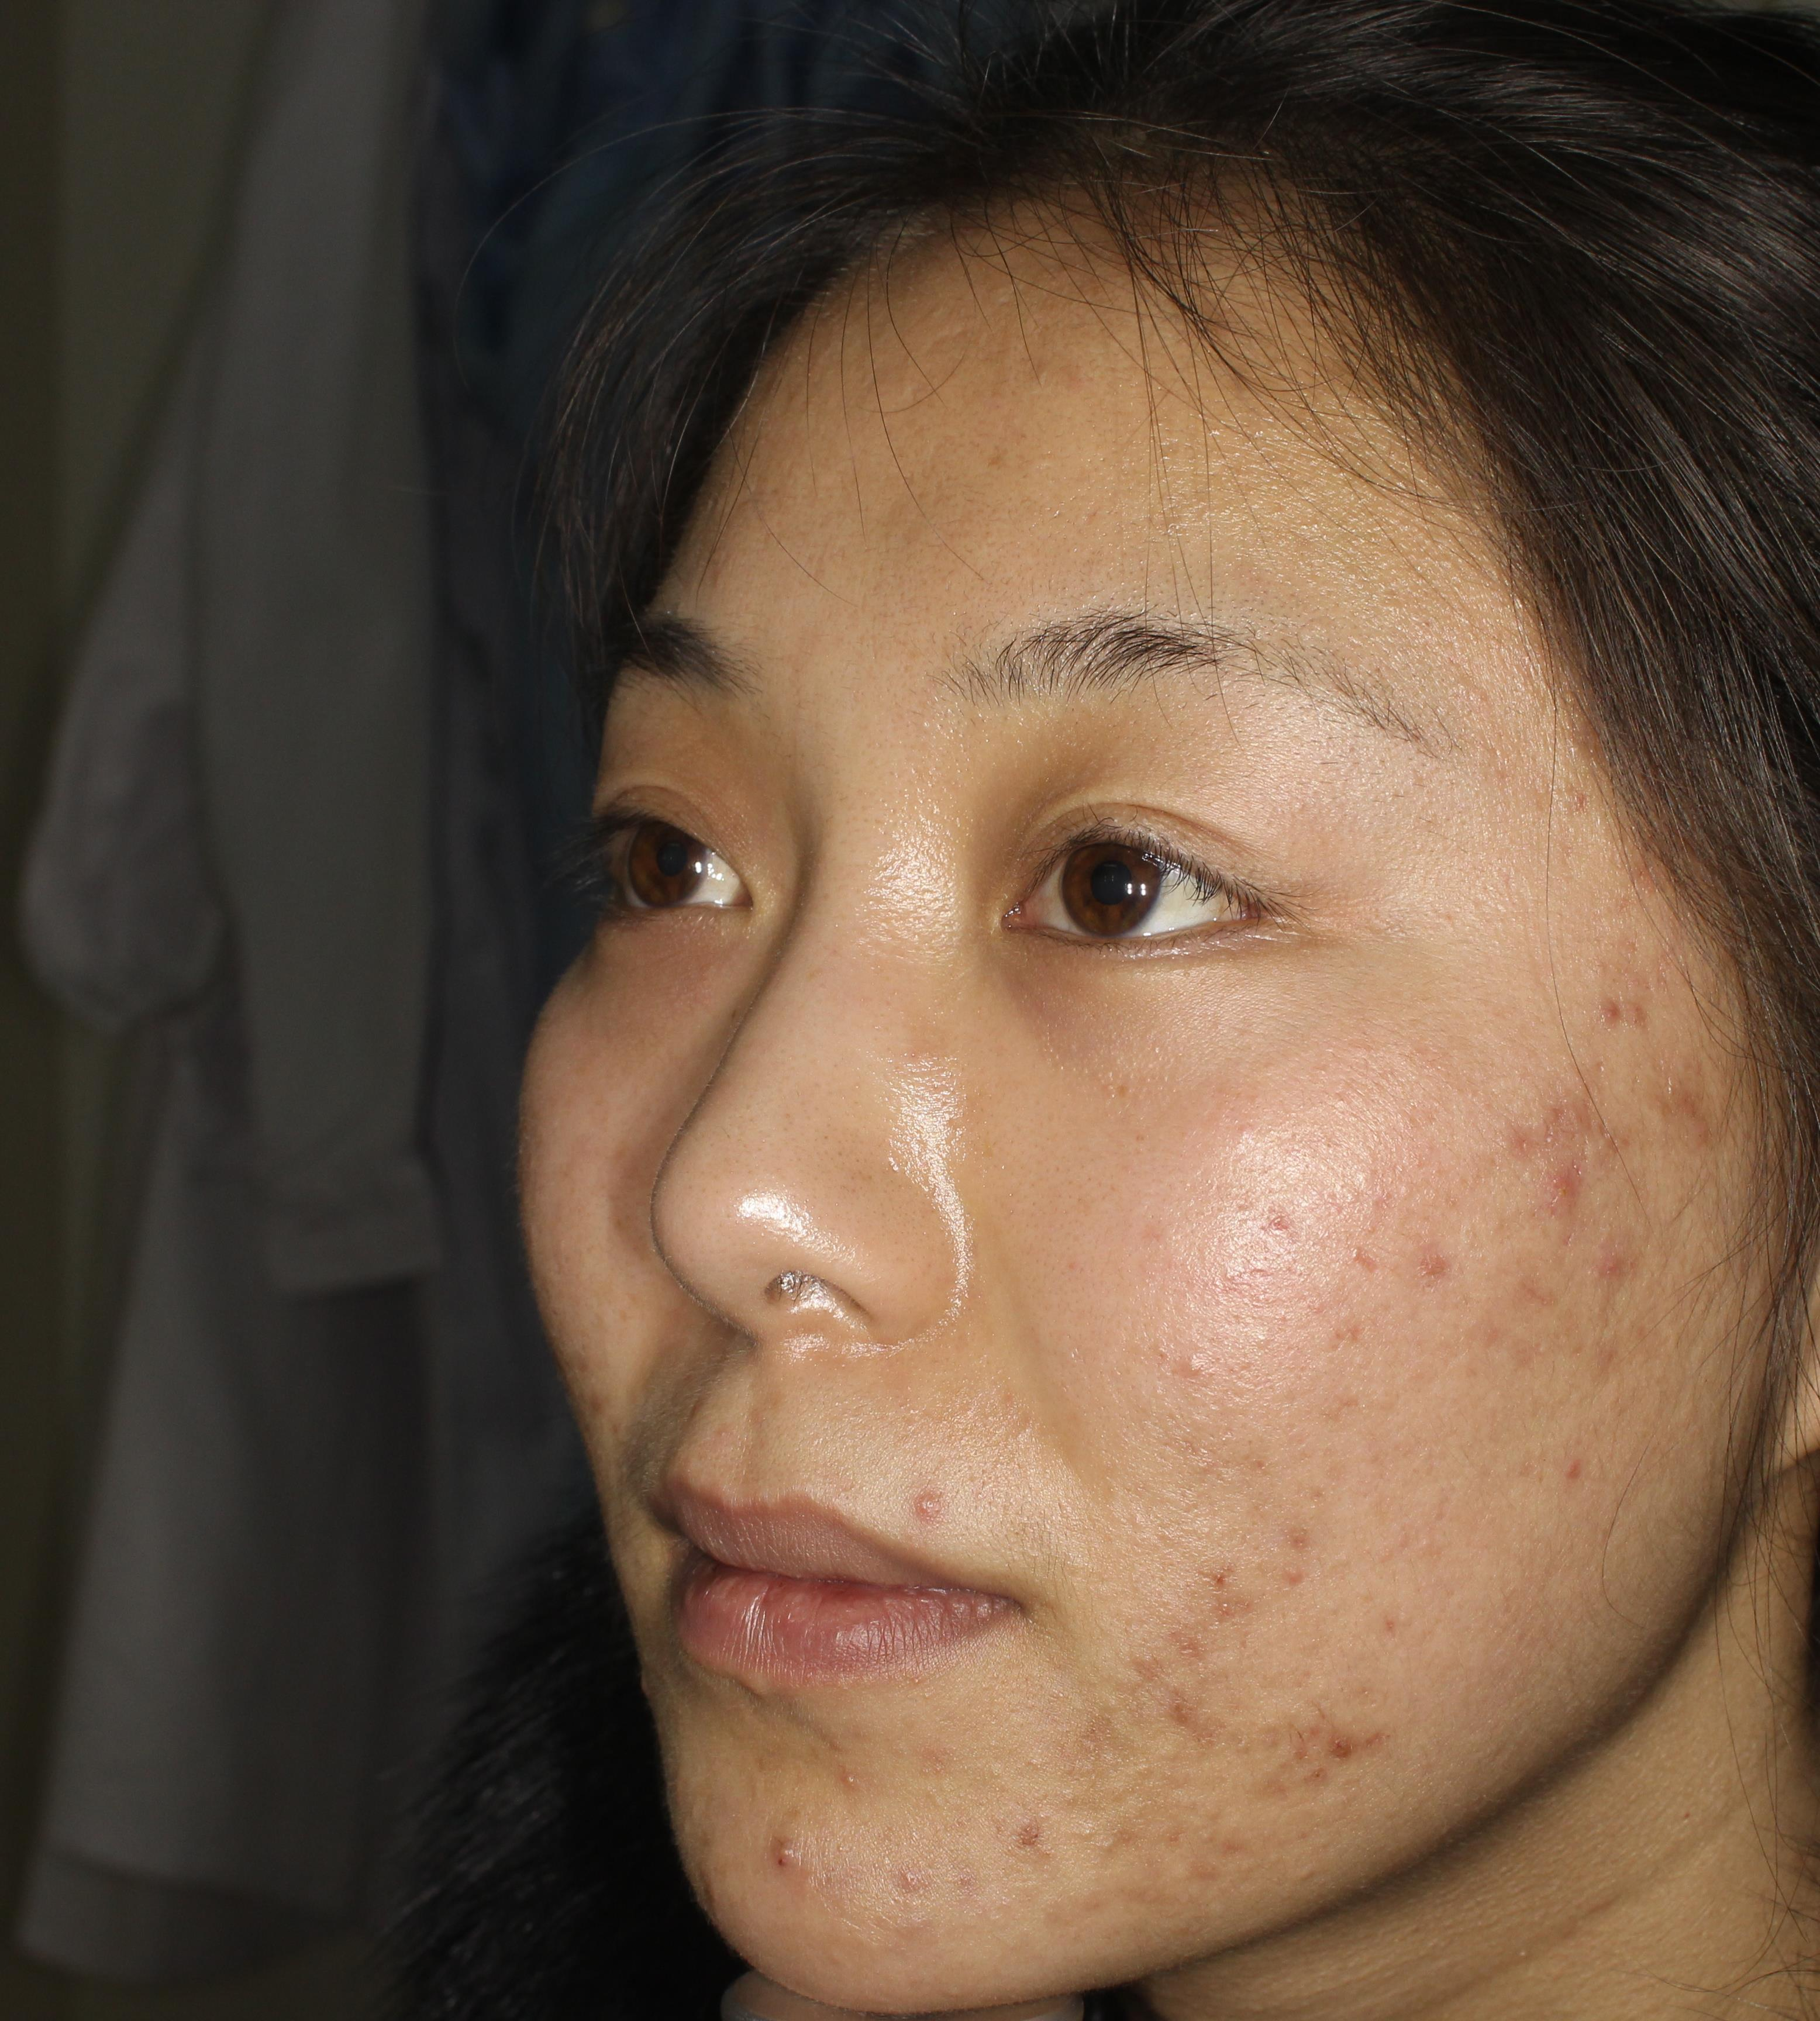fore: (1296, 1687, 1395, 1800), (1571, 1231, 1678, 1315), (1574, 971, 1678, 1052), (736, 1831, 817, 1921), (1381, 1222, 1484, 1289), (1112, 1635, 1210, 1705), (991, 1794, 1068, 1875), (1152, 1693, 1242, 1759), (1574, 1326, 1672, 1384), (1063, 1687, 1131, 1768), (1251, 1522, 1323, 1598), (1470, 1101, 1551, 1168), (1170, 1568, 1274, 1612), (1539, 1075, 1606, 1141), (1672, 1083, 1736, 1150), (861, 1826, 915, 1895), (1588, 1115, 1646, 1176), (1256, 1696, 1305, 1765), (1551, 1424, 1588, 1514), (921, 1456, 942, 1557), (1534, 1168, 1597, 1196)
